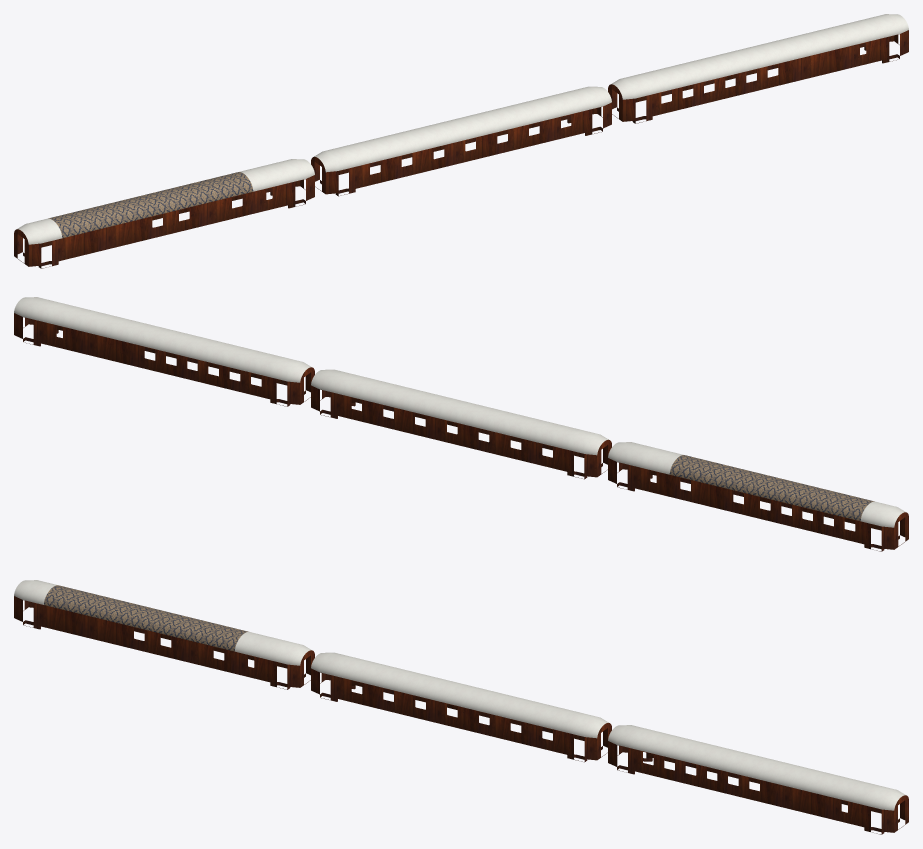
Rendered from Shadowcathcers.FBX.
3 views of the same model, one above another, from view 1: azimuth 30°, elevation 25°; view 2: azimuth 150°, elevation 25°; view 3: azimuth 330°, elevation 25° (orthographic).
Visible parts, largest first — view 1: Object374, Object375, Object373, Object371, Object372, Dak_W002, Object377, Object376; view 2: Object374, Object375, Object373, Object371, Object372, Dak_W002, Object377, Object376; view 3: Object375, Object374, Object373, Object371, Object372, Dak_W002, Object377, Object376.
Boxes of the visible parts, <box> form: Object374: <box>314,86,611,172</box>; Object375: <box>611,14,908,99</box>; Object373: <box>14,175,314,268</box>; Object371: <box>608,30,908,123</box>; Object372: <box>311,102,611,196</box>; Dak_W002: <box>48,172,253,238</box>; Object377: <box>239,159,314,191</box>; Object376: <box>17,218,62,244</box>; Object374: <box>311,369,608,455</box>; Object375: <box>14,297,311,382</box>; Object373: <box>608,458,908,551</box>; Object371: <box>14,313,314,406</box>; Object372: <box>311,385,611,479</box>; Dak_W002: <box>669,455,874,521</box>; Object377: <box>608,442,683,474</box>; Object376: <box>860,501,905,527</box>; Object375: <box>608,725,905,810</box>; Object374: <box>311,652,608,738</box>; Object373: <box>14,596,314,689</box>; Object371: <box>608,741,908,834</box>; Object372: <box>311,668,611,762</box>; Dak_W002: <box>44,585,248,651</box>; Object377: <box>235,632,311,665</box>; Object376: <box>14,580,57,604</box>.
Bounding box in the file's own units: 16604 × 661 × 600.
Materials: 3 (3 with a texture image).
